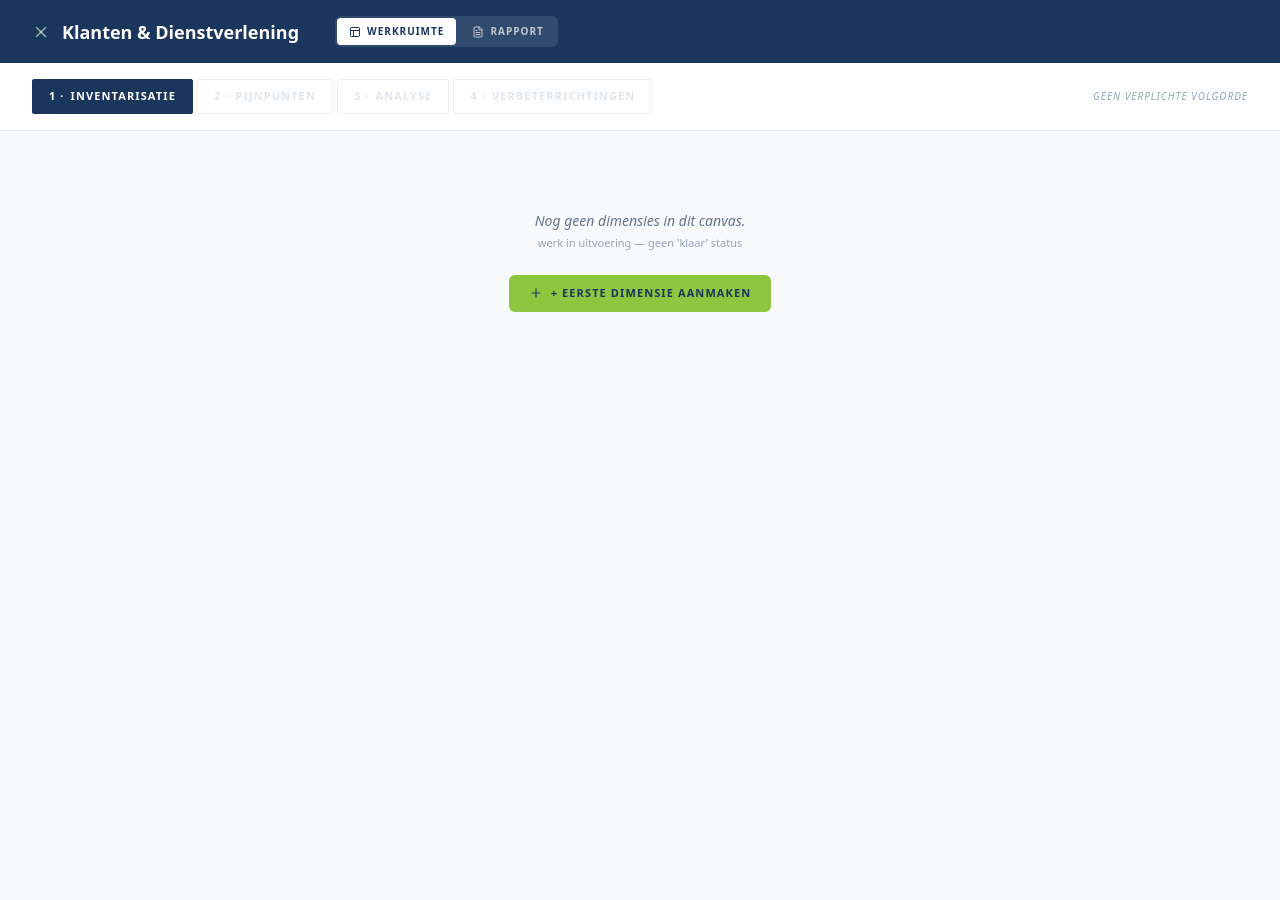
Test case: KlantenWerkblad — lege-canvas flow (stap 11.E correctie) › API-error in createDimension toont melding in modal en houdt 'm open
The width and height of the screenshot is (1280, 900).
Step 1. Click the button with test id "dimensie-cta-eerste" → (640, 293), box [509,275,771,312]
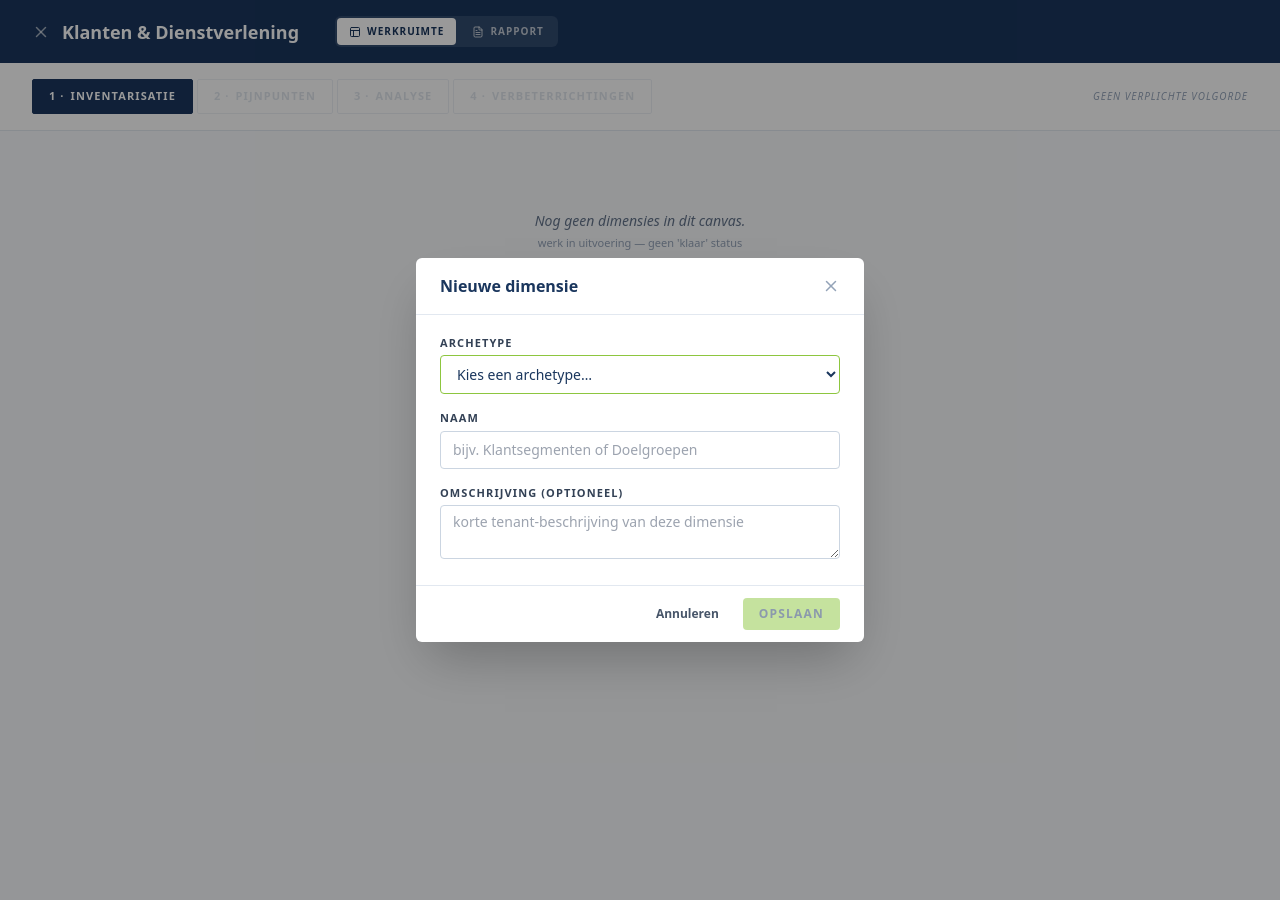
Step 2. Select "Kanaal" in the dropdown labelled "Archetype" → (640, 375), box [440,355,840,394]
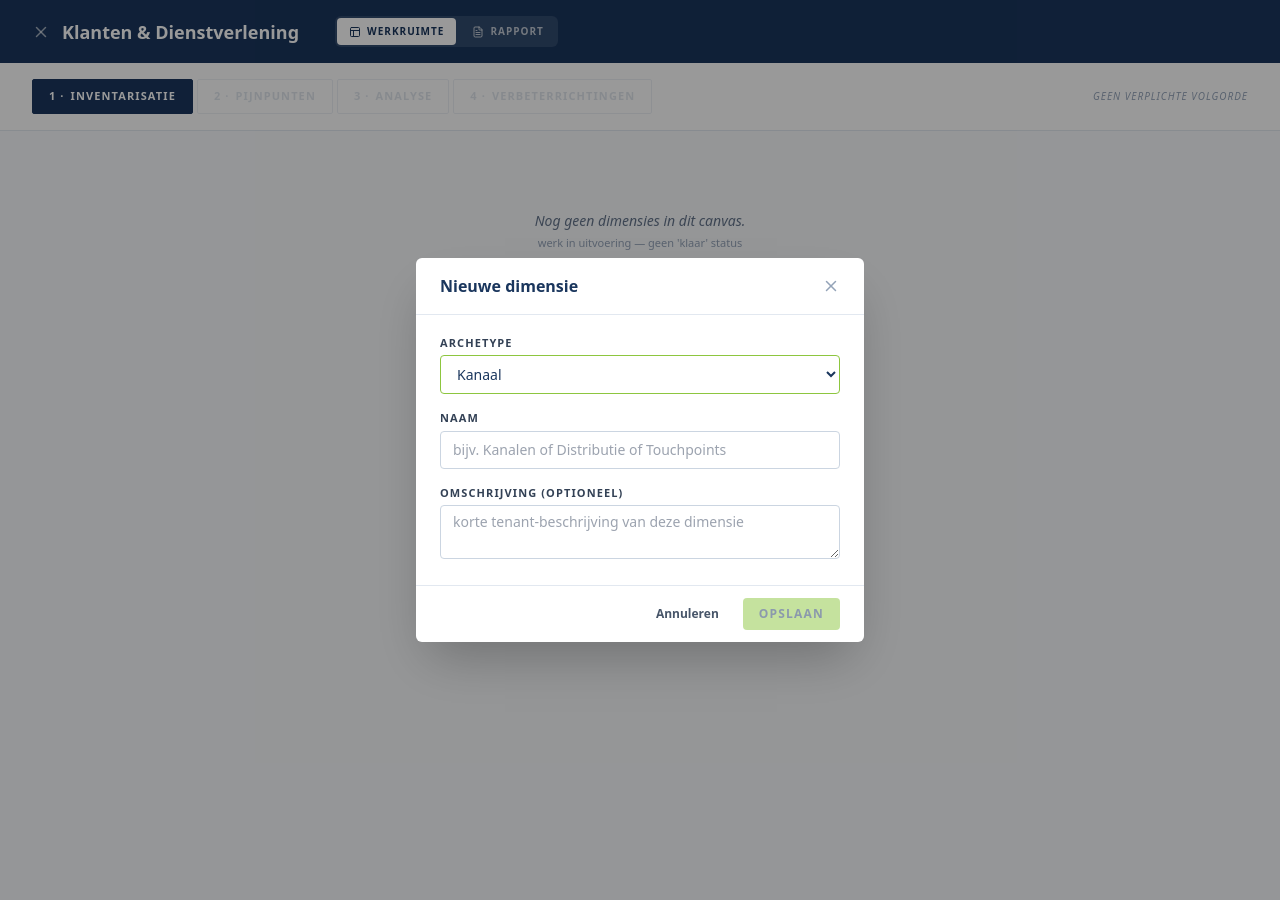
Step 3. Type "X" into the field labelled "Naam" → (640, 450), box [440,431,840,469]
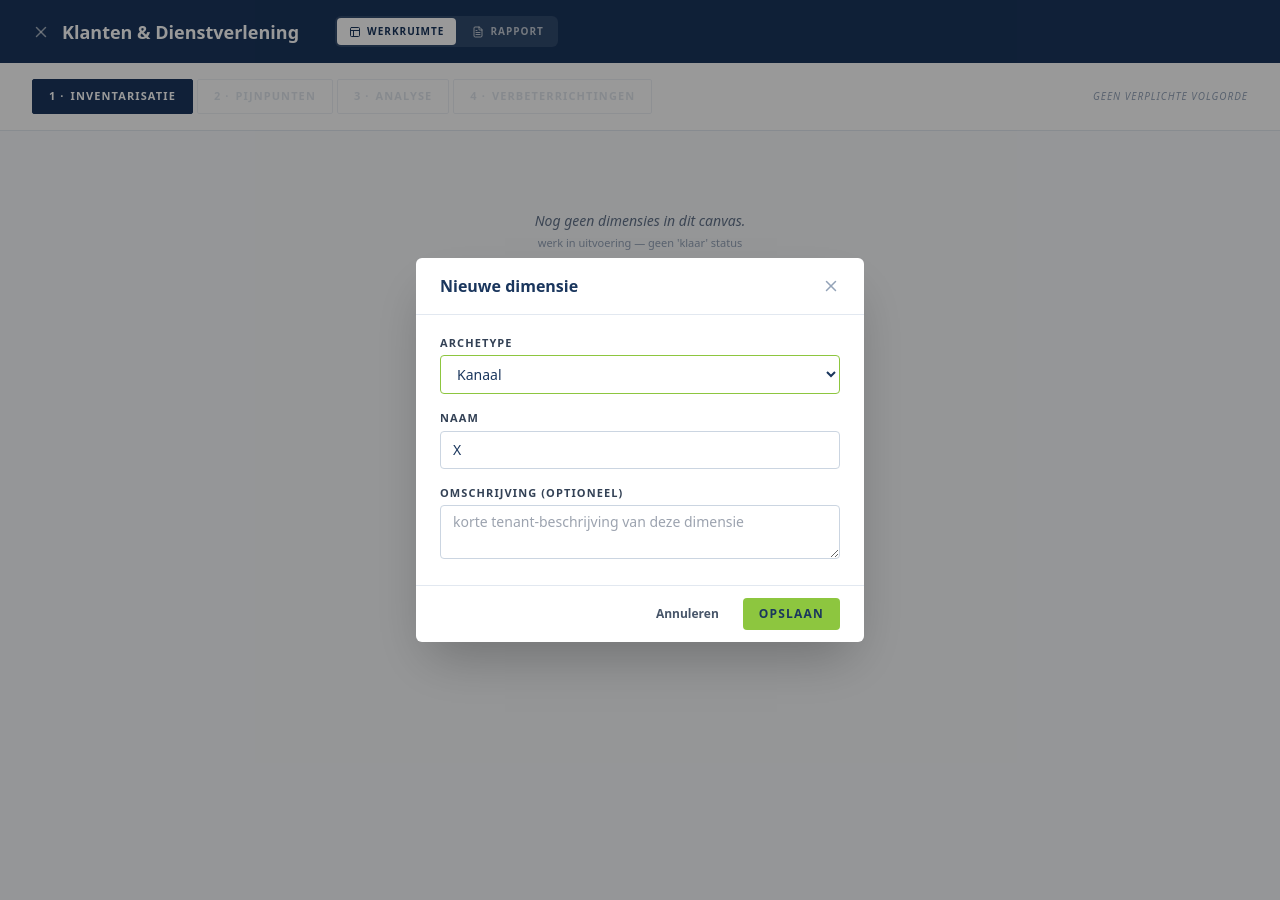
Step 4. Click the button "Opslaan" → (791, 614), box [743,598,840,630]
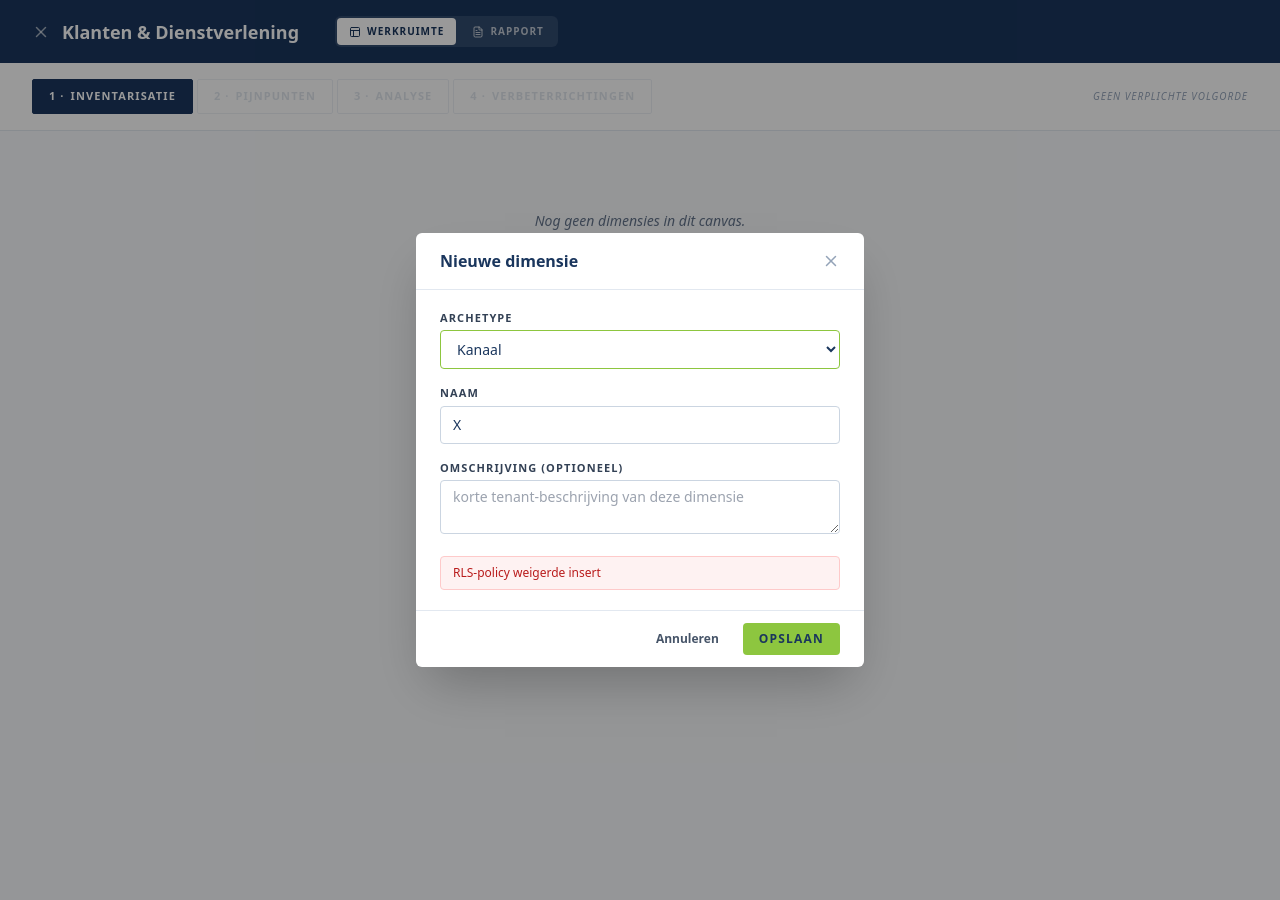
Now the heading "Nieuwe dimensie" is shown, box [440,249,578,273]
Now the text "RLS-policy weigerde insert" is shown, box [440,556,840,590]
